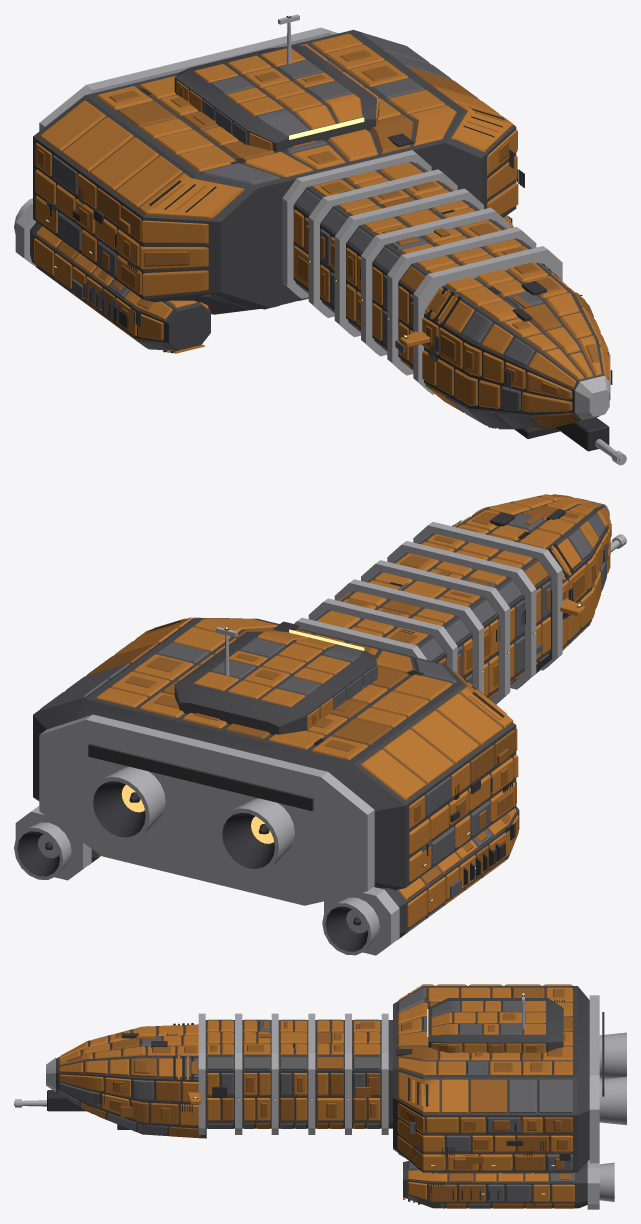
File: enemy_frigate.glb
The picture shows the model from 3 angles, top to bottom: view 1: azimuth 30°, elevation 25°; view 2: azimuth 150°, elevation 25°; view 3: azimuth 270°, elevation 25°; orthographic projection. The views are drawn at different scales.
Parts seen in each view (by area): view 1: enemy_frigate; view 2: enemy_frigate; view 3: enemy_frigate.
Boxes of the visible parts, x1,y1,x2,y2 form: enemy_frigate: (14, 14, 626, 465); enemy_frigate: (14, 494, 626, 955); enemy_frigate: (14, 984, 626, 1209).
Size of the model in its own units: 30.9 by 18.56 by 61.12.
